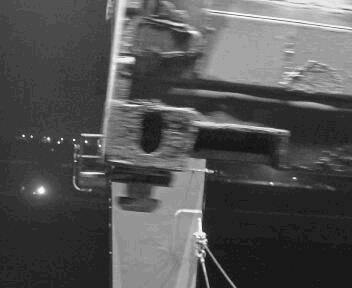twist_lock_1: (101, 161, 179, 216)
